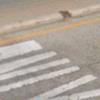Crosswalk: (3, 39, 88, 100)
